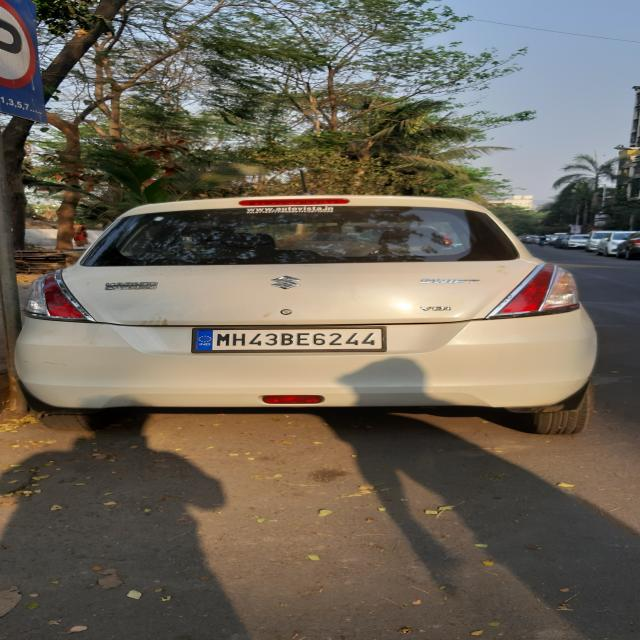Number-Plate: (196, 329, 380, 348)
